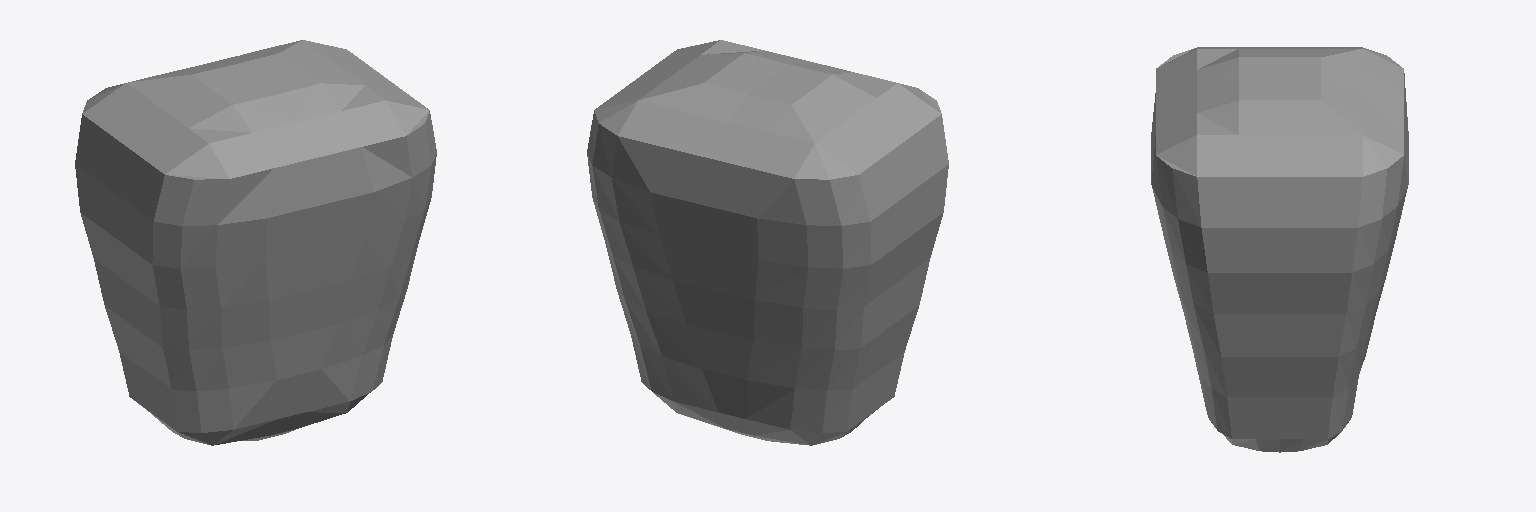
Rendered from torsoMuscle.1.obj.
3 views of the same model, side by side, from view 1: azimuth 30°, elevation 25°; view 2: azimuth 150°, elevation 25°; view 3: azimuth 270°, elevation 25° (orthographic).
Parts seen in each view (by area): view 1: Cube.001; view 2: Cube.001; view 3: Cube.001.
Part boxes in pixels (x1,y1,x2,y2): Cube.001: (75, 40, 436, 445); Cube.001: (587, 40, 948, 445); Cube.001: (1151, 47, 1408, 452).
Size of the model in its own units: 1.7 by 2.02 by 1.33.